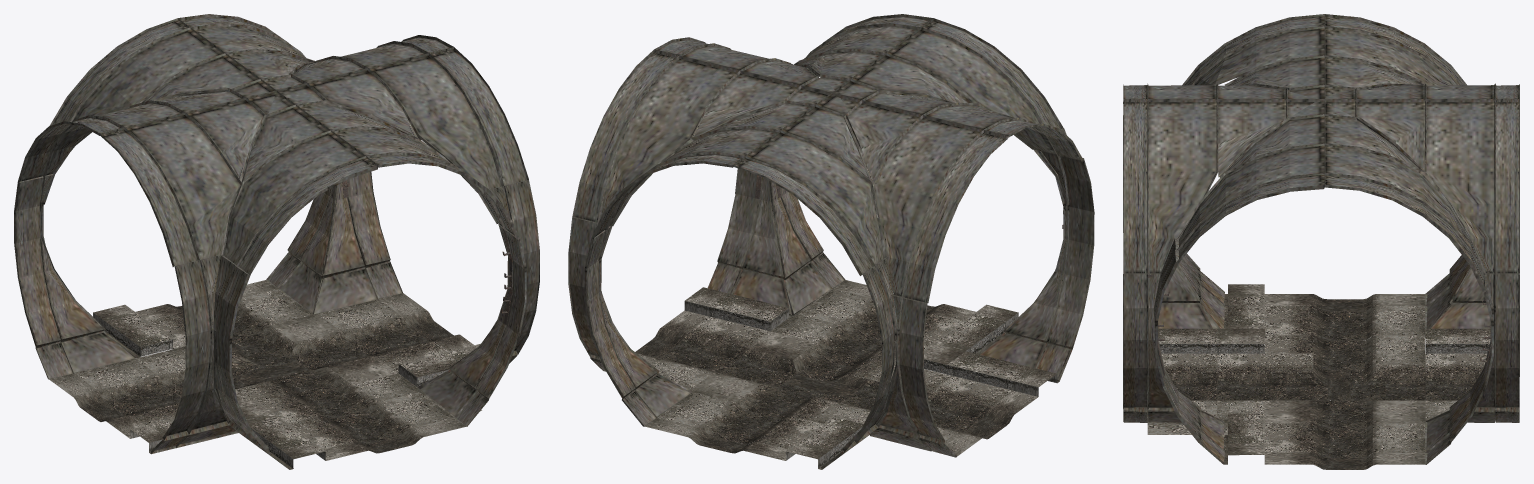
File: tunnel_beton_x.obj
3 renders of one model, left to right at view 1: azimuth 30°, elevation 25°; view 2: azimuth 150°, elevation 25°; view 3: azimuth 270°, elevation 25°, orthographic.
Parts seen in each view (by area): view 1: concrete_tile_010, floor_tunnel_pod010, concrete_opalubka_tunnel014; view 2: concrete_tile_010, floor_tunnel_pod010, concrete_021, concrete_opalubka_tunnel014; view 3: concrete_tile_010, floor_tunnel_pod010, concrete_021.
Boxes of the visible parts, box(x1,y1,x2,y2) form: concrete_tile_010: box(14, 14, 539, 469); floor_tunnel_pod010: box(49, 280, 481, 469); concrete_opalubka_tunnel014: box(93, 313, 449, 468); concrete_tile_010: box(568, 14, 1094, 469); floor_tunnel_pod010: box(635, 280, 1059, 469); concrete_021: box(684, 301, 1038, 460); concrete_opalubka_tunnel014: box(818, 313, 1057, 468); concrete_tile_010: box(1123, 14, 1519, 464); floor_tunnel_pod010: box(1147, 284, 1490, 469); concrete_021: box(1159, 344, 1489, 353).
Size of the model in its own units: 10.61 by 8.26 by 10.4.
